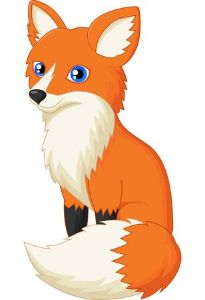fox: (15, 1, 188, 298)
